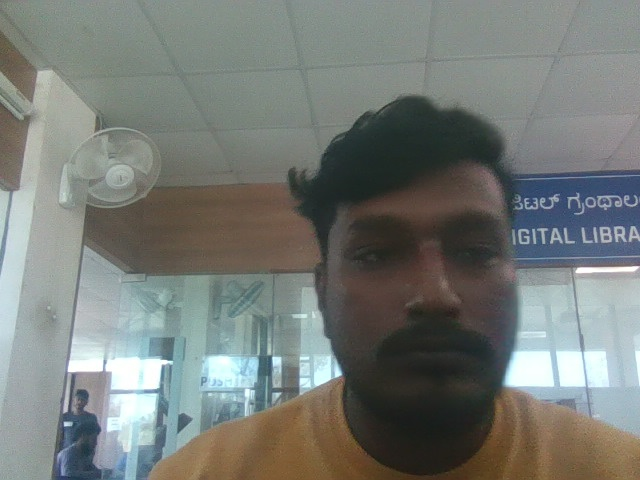real: (294, 75, 550, 438)
